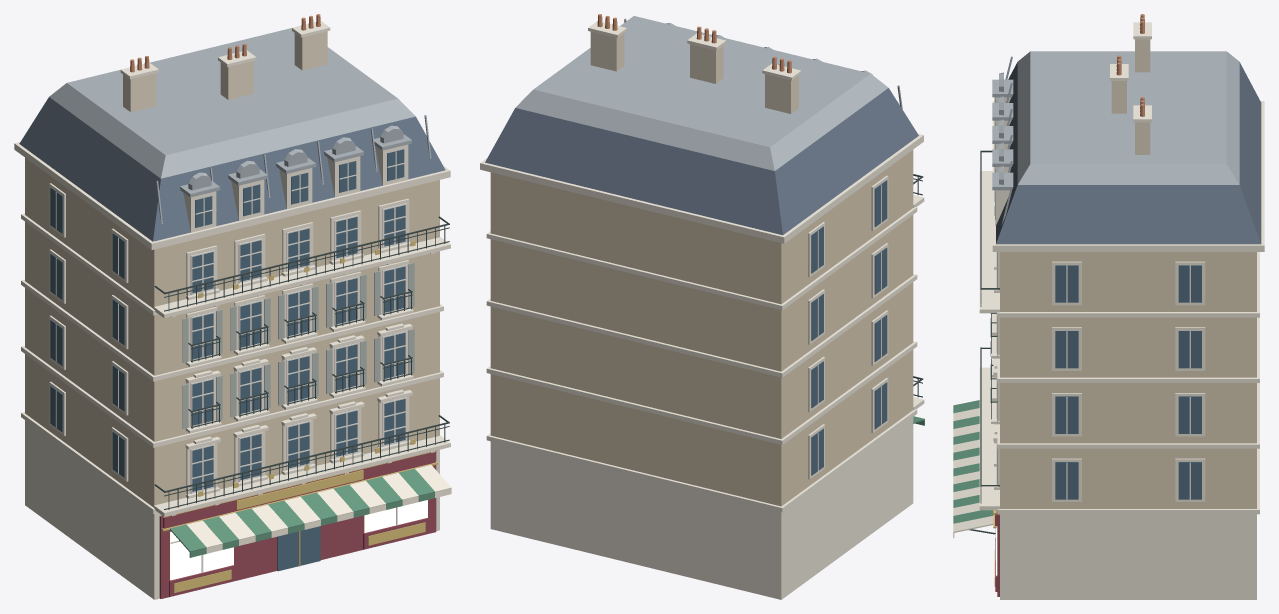
File: Haussmann_Librairie.fbx
3 renders of one model, left to right at view 1: azimuth 30°, elevation 25°; view 2: azimuth 150°, elevation 25°; view 3: azimuth 270°, elevation 25°, orthographic. The views are drawn at different scales.
Parts seen in each view (by area): view 1: Haussmann_Librairie; view 2: Haussmann_Librairie; view 3: Haussmann_Librairie.
Part boxes in pixels (<box>): Haussmann_Librairie: <box>14,14,451,599</box>; Haussmann_Librairie: <box>480,14,924,599</box>; Haussmann_Librairie: <box>953,14,1264,599</box>.
Size of the model in its own units: 14.65 by 22.25 by 13.33.
